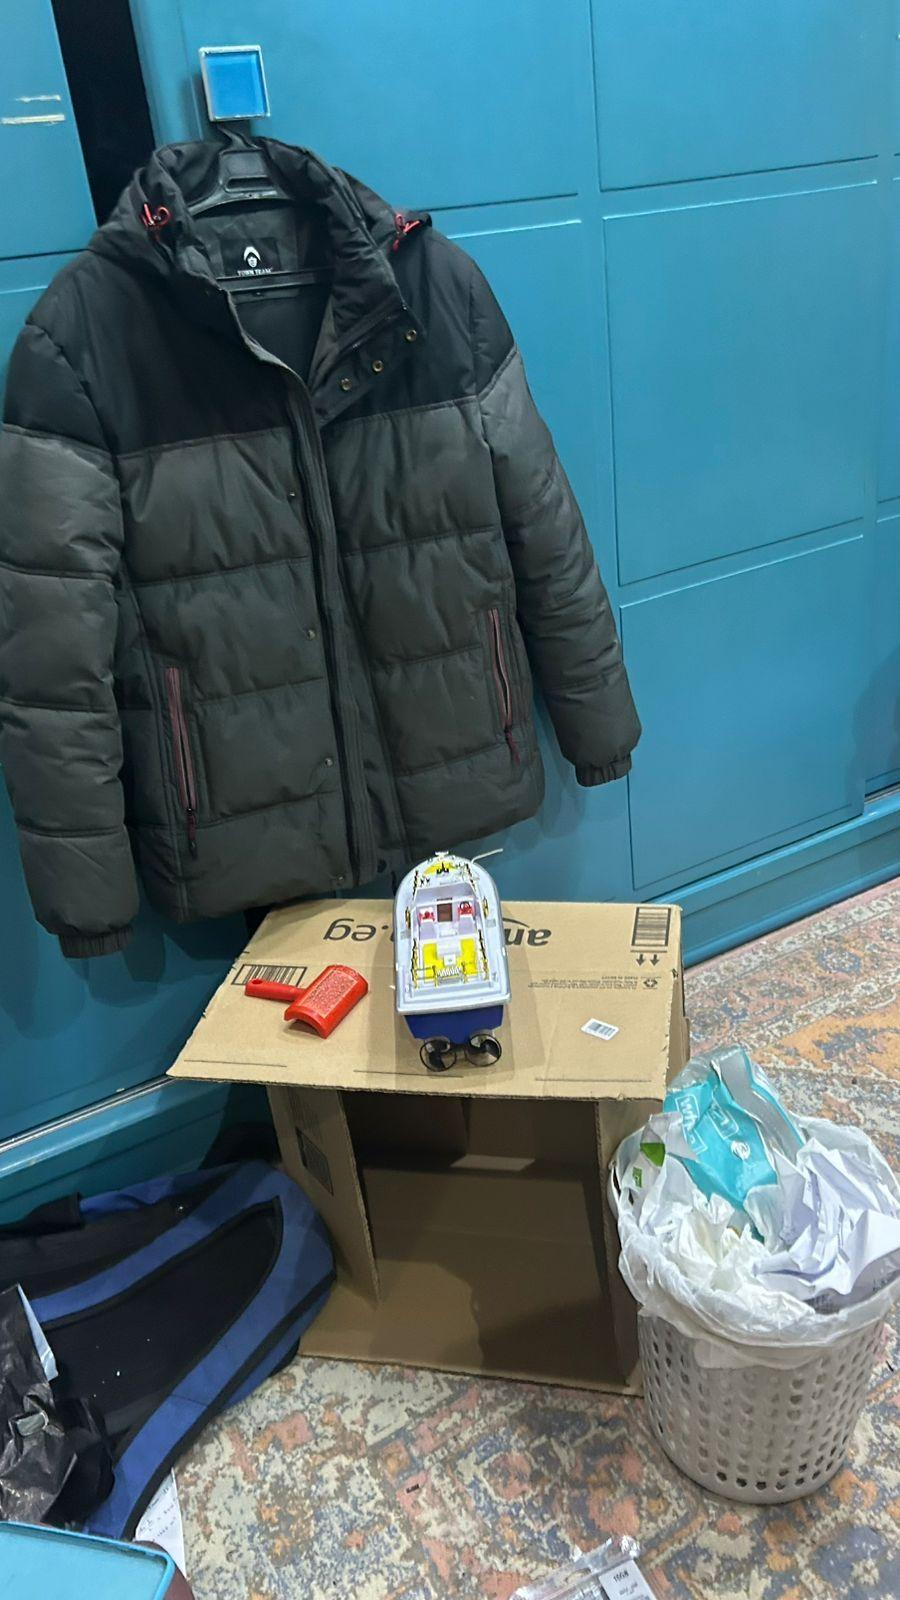Boat: (390, 846, 524, 1082)
